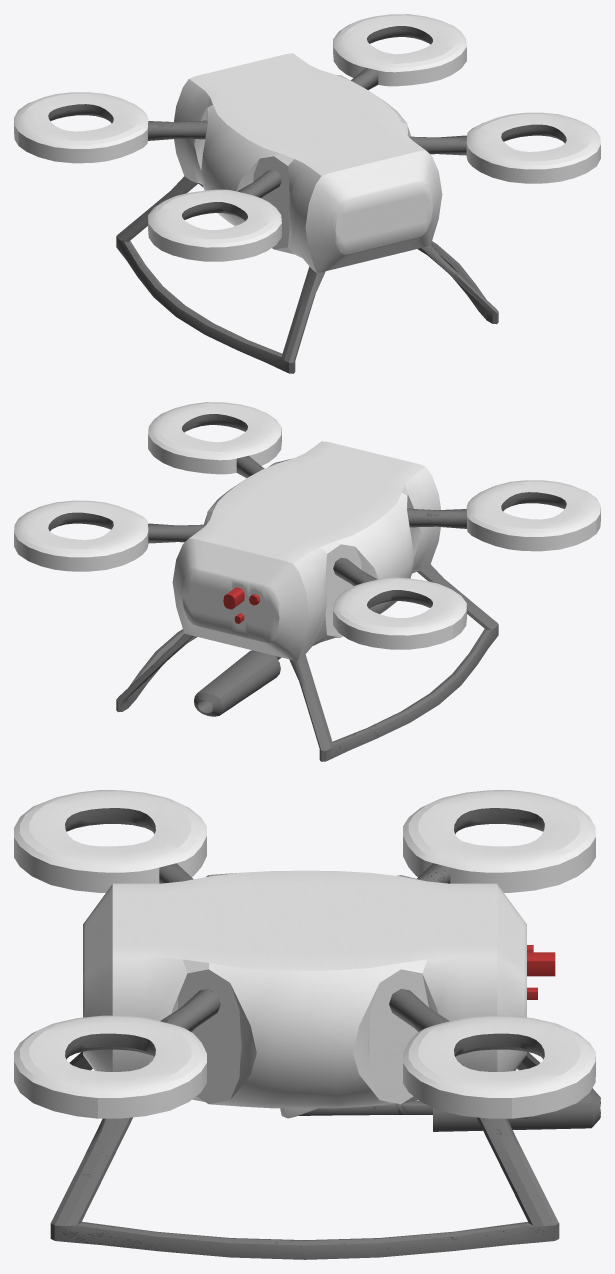
The model's file is Drone_VF.glb.
The picture shows the model from 3 angles, top to bottom: view 1: azimuth 30°, elevation 25°; view 2: azimuth 150°, elevation 25°; view 3: azimuth 270°, elevation 25°; orthographic projection. The views are drawn at different scales.
Visible parts, largest first — view 1: Drone_Mesh; view 2: Drone_Mesh; view 3: Drone_Mesh.
Part boxes in pixels (x1,y1,x2,y2): Drone_Mesh: (14, 14, 600, 373); Drone_Mesh: (14, 402, 600, 761); Drone_Mesh: (14, 790, 600, 1259).
Size of the model in its own units: 22.28 by 8.38 by 17.99.
3 materials, 3 textured.
